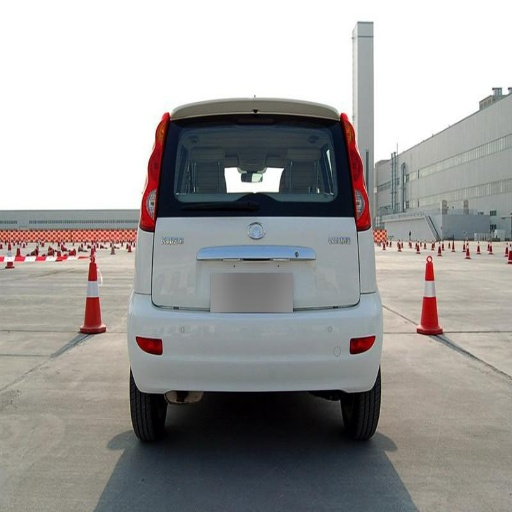back_bumper: (130, 292, 383, 391)
trunk: (136, 215, 365, 335)
